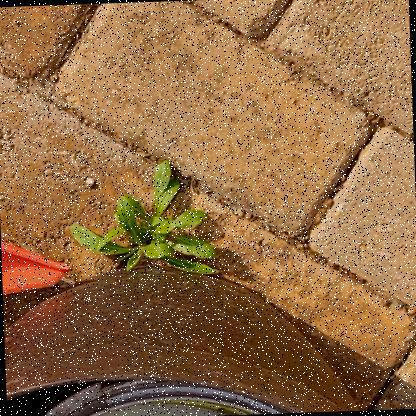Weeds: (68, 160, 220, 281)
